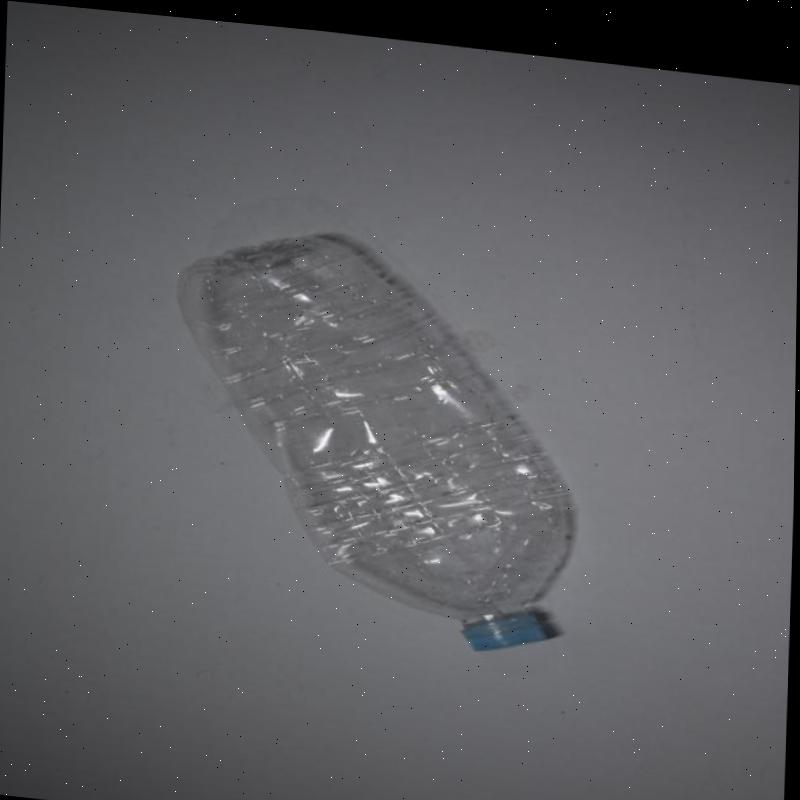botella: (167, 213, 584, 650)
